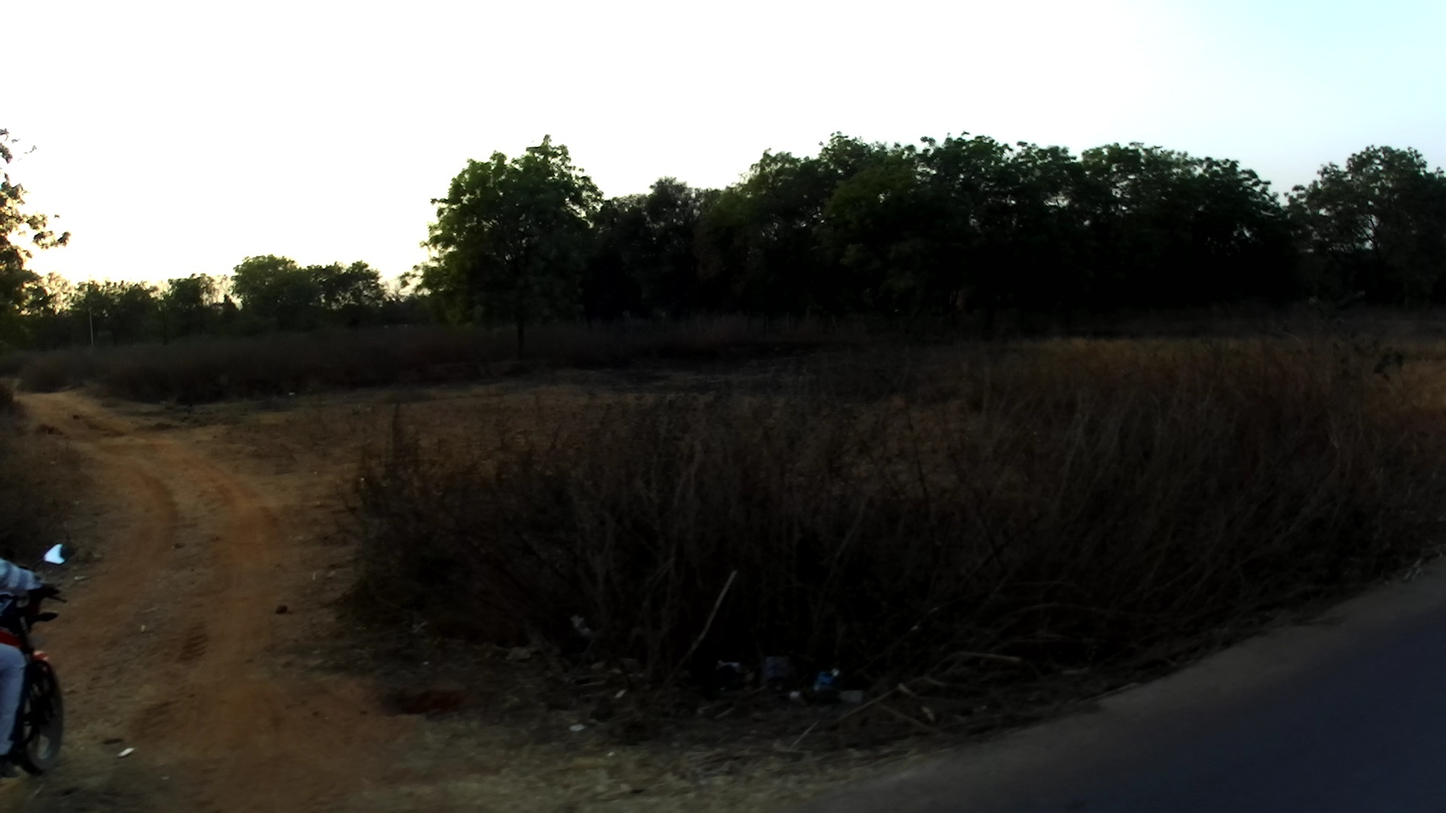motorcycle: (1, 543, 79, 785)
rider: (1, 561, 56, 779)
